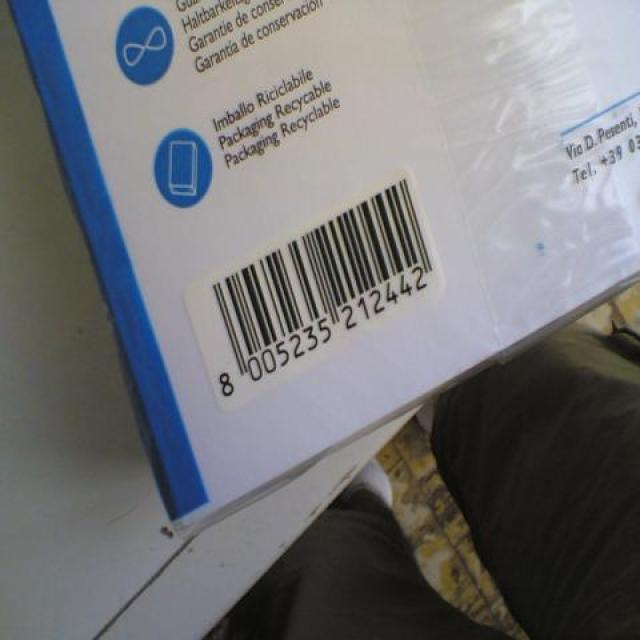Barcode: (183, 165, 445, 410)
